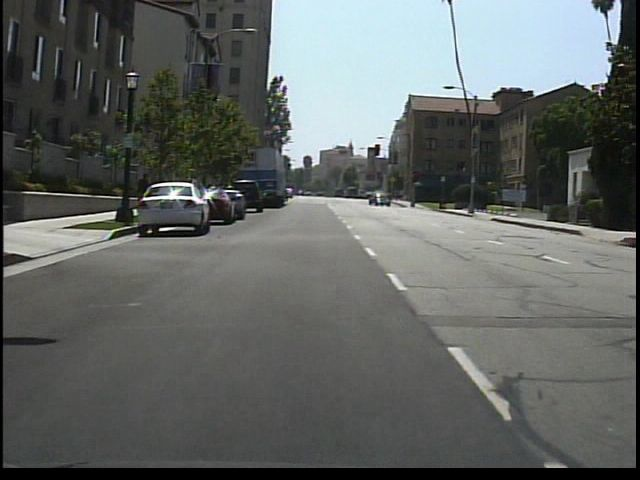person: (137, 167, 156, 216)
